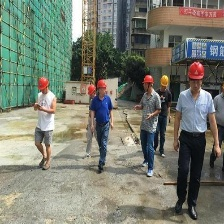helmet: (186, 61, 207, 83), (36, 76, 50, 96), (96, 81, 111, 94), (160, 75, 171, 89)
no-vest: (178, 90, 216, 137), (140, 93, 162, 132), (36, 91, 57, 130), (91, 94, 115, 125)
person: (174, 60, 215, 224), (92, 79, 114, 178), (138, 76, 158, 183), (34, 76, 56, 173)
